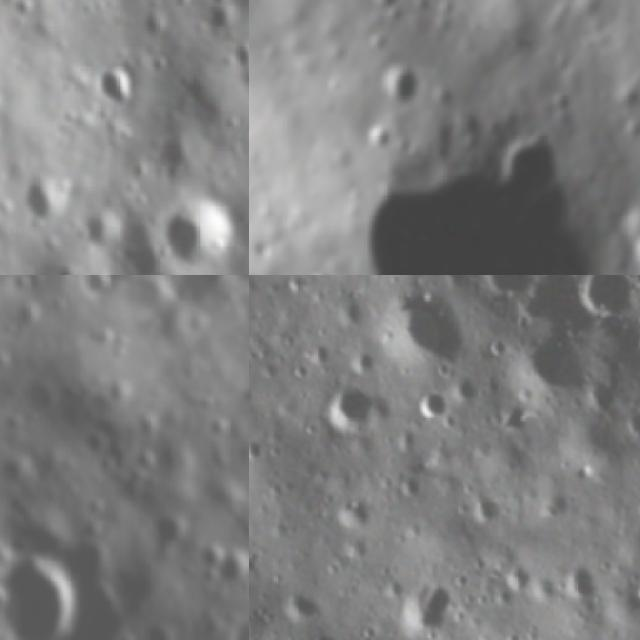crater: (382, 280, 472, 374), (0, 545, 89, 640), (156, 196, 236, 275), (514, 331, 594, 407), (516, 275, 588, 332), (18, 168, 75, 233), (322, 374, 377, 438), (153, 130, 208, 187), (401, 577, 452, 636), (580, 275, 640, 324), (89, 60, 143, 114), (164, 275, 227, 319), (74, 208, 126, 260), (556, 554, 598, 607), (149, 506, 194, 554), (129, 275, 175, 317), (374, 60, 413, 108), (332, 493, 376, 533), (280, 583, 320, 624), (334, 294, 371, 334), (196, 539, 228, 585), (468, 490, 504, 528), (77, 429, 113, 466), (417, 384, 451, 423), (485, 275, 539, 299), (220, 546, 249, 590), (77, 275, 115, 307), (305, 338, 337, 374), (131, 410, 164, 444), (201, 413, 232, 444), (138, 617, 178, 640), (133, 447, 162, 478), (89, 392, 118, 423), (5, 275, 38, 300), (94, 450, 119, 478), (364, 125, 394, 146), (228, 611, 249, 640), (0, 347, 17, 380), (630, 225, 640, 270), (231, 275, 249, 295)
